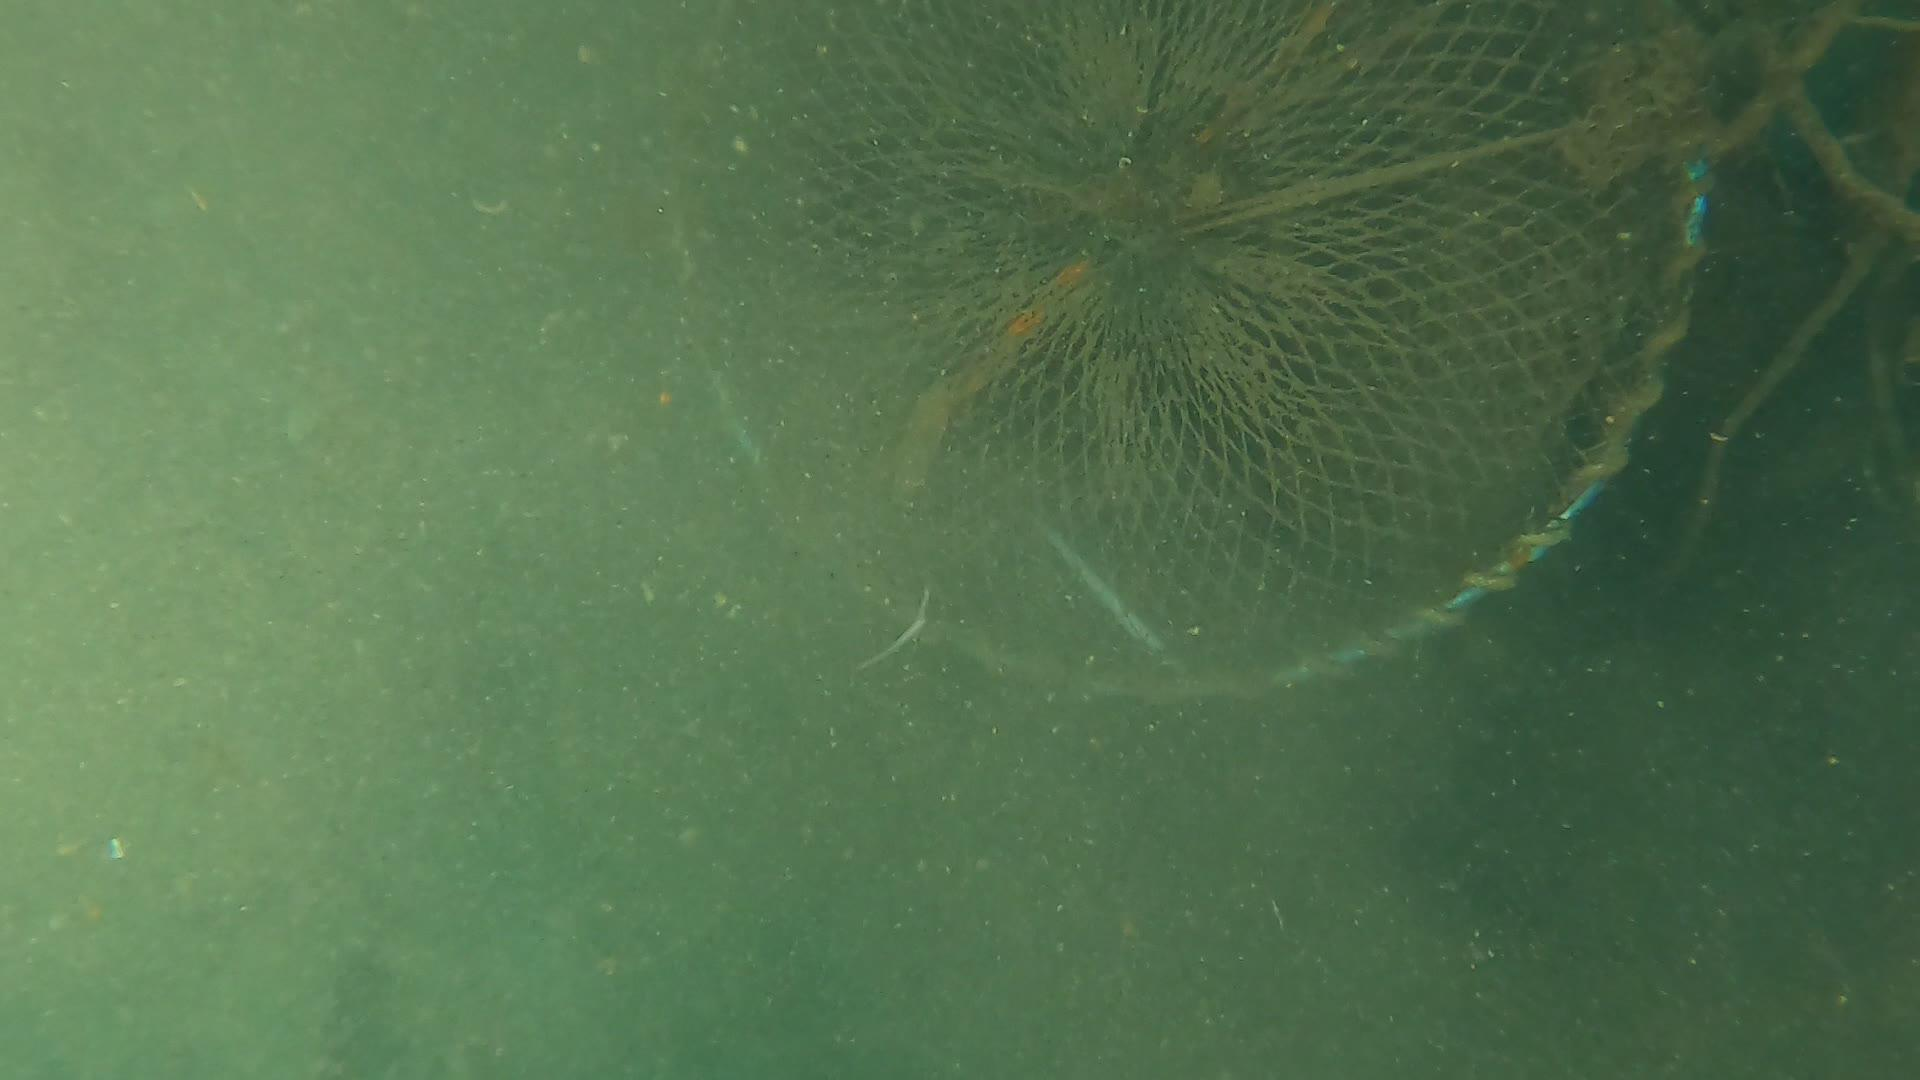circular fish trap: (669, 0, 1708, 699)
